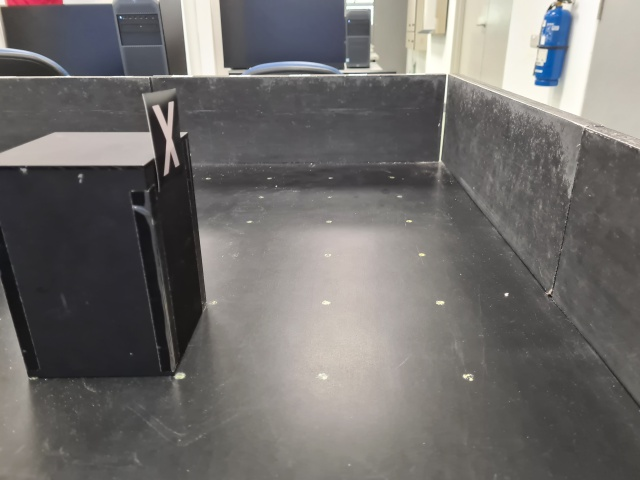alphabet_x: (141, 87, 188, 192)
